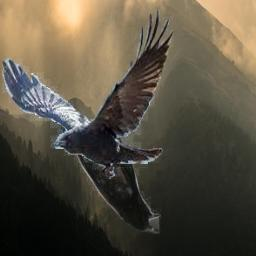Crow: (1, 8, 174, 179), (58, 103, 161, 235)
